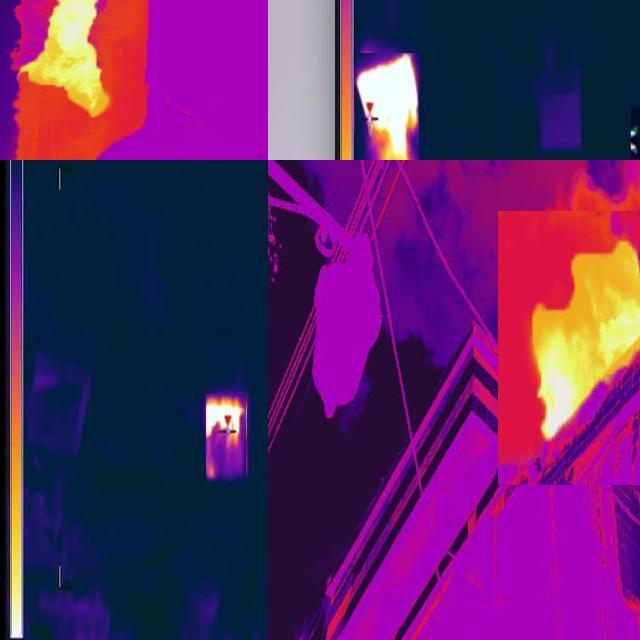fire: (532, 241, 640, 442), (16, 1, 116, 121), (352, 55, 416, 163), (206, 393, 246, 481)
